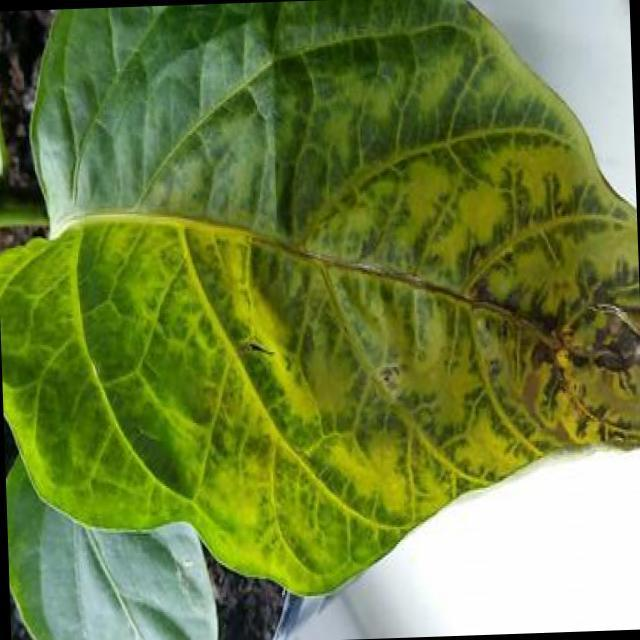Mosaic Virus: (8, 1, 628, 556)
